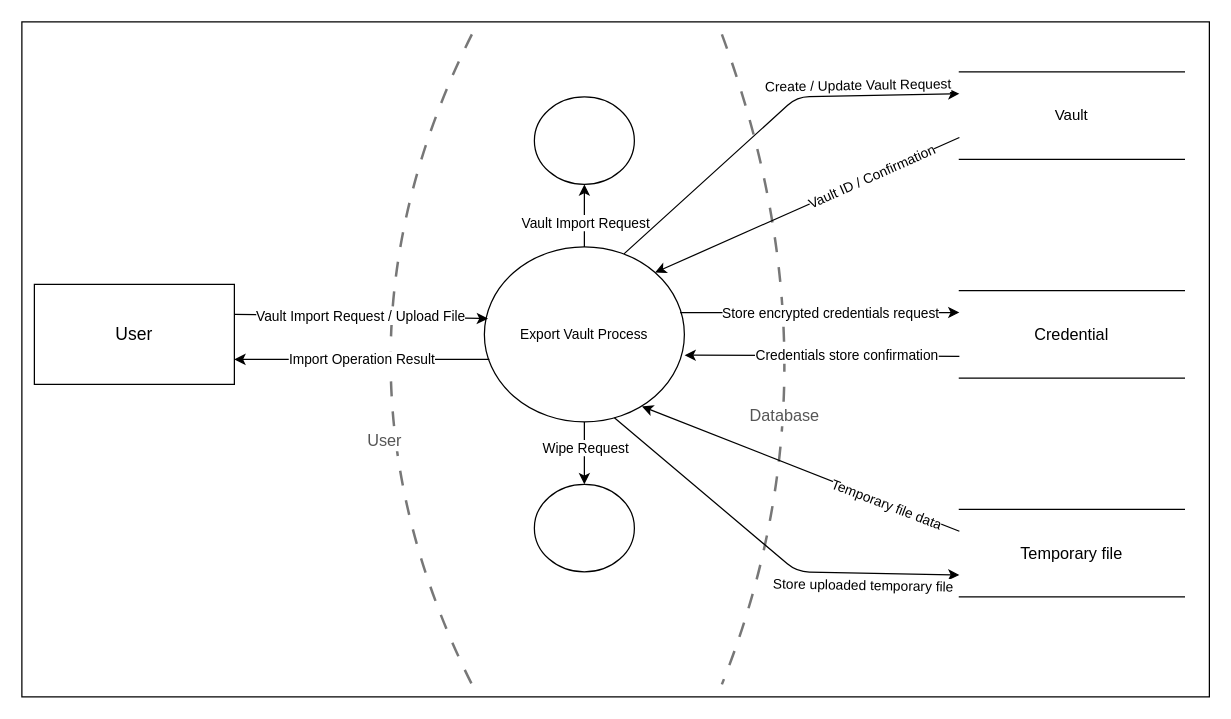
Image size: 1231x719. Some labels were removed from this diagram. Each missing label, with the centre of its shape:
"Secure Wipe Temporary Files" goes at point 583,527.
"Write Audit Logs" goes at point 583,140.
